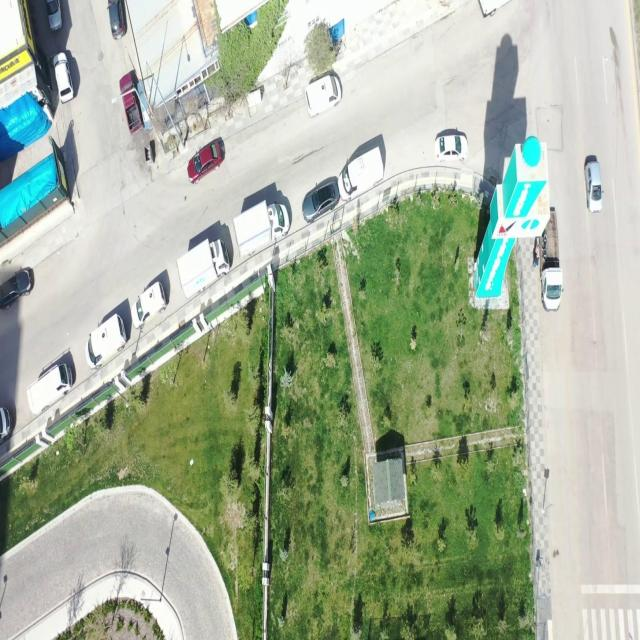p3rson: (532, 257, 540, 268), (534, 244, 540, 257)
